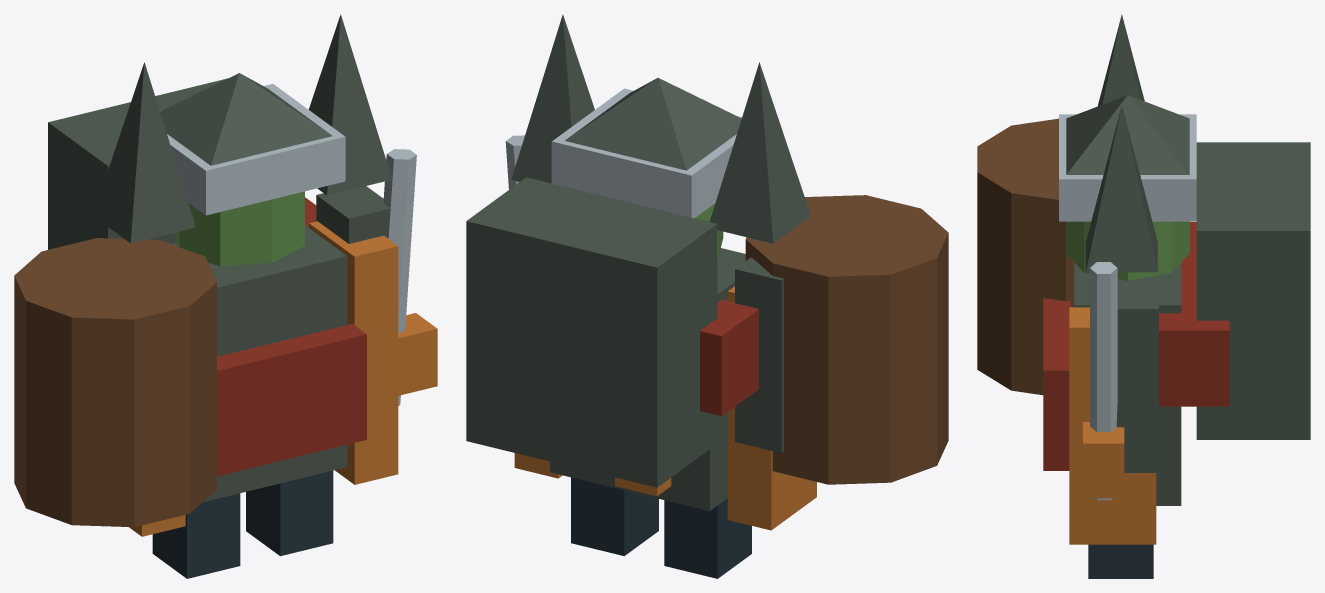
The model's file is mechanized-infantry.obj.
3 views of the same model, side by side, from view 1: azimuth 30°, elevation 25°; view 2: azimuth 150°, elevation 25°; view 3: azimuth 270°, elevation 25° (orthographic). The views are drawn at different scales.
Visible parts, largest first — view 1: infantry; view 2: infantry; view 3: infantry.
Boxes of the visible parts, <box> form: infantry: <box>14,14,437,578</box>; infantry: <box>466,14,948,578</box>; infantry: <box>977,14,1310,578</box>.
Size of the model in its own units: 1.54 by 1.79 by 1.11.
